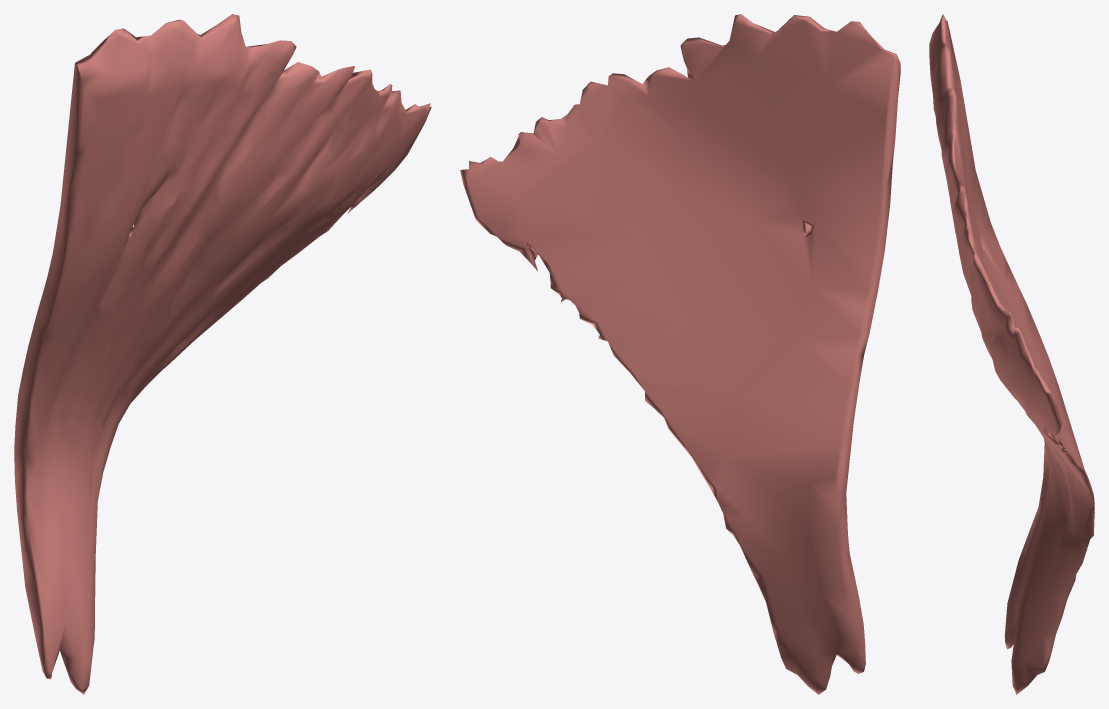
Rendered from fma55611_mm1086.glb.
The picture shows the model from 3 angles, left to right: view 1: azimuth 30°, elevation 25°; view 2: azimuth 150°, elevation 25°; view 3: azimuth 270°, elevation 25°; orthographic projection. The views are drawn at different scales.
Visible parts, largest first — view 1: FMA55611_MM1086; view 2: FMA55611_MM1086; view 3: FMA55611_MM1086.
Boxes of the visible parts, x1=… form: FMA55611_MM1086: x1=14, y1=14, x2=431, y2=694; FMA55611_MM1086: x1=460, y1=14, x2=900, y2=694; FMA55611_MM1086: x1=929, y1=14, x2=1094, y2=694.
Size of the model in its own units: 0.0231 by 0.0373 by 0.00826.
